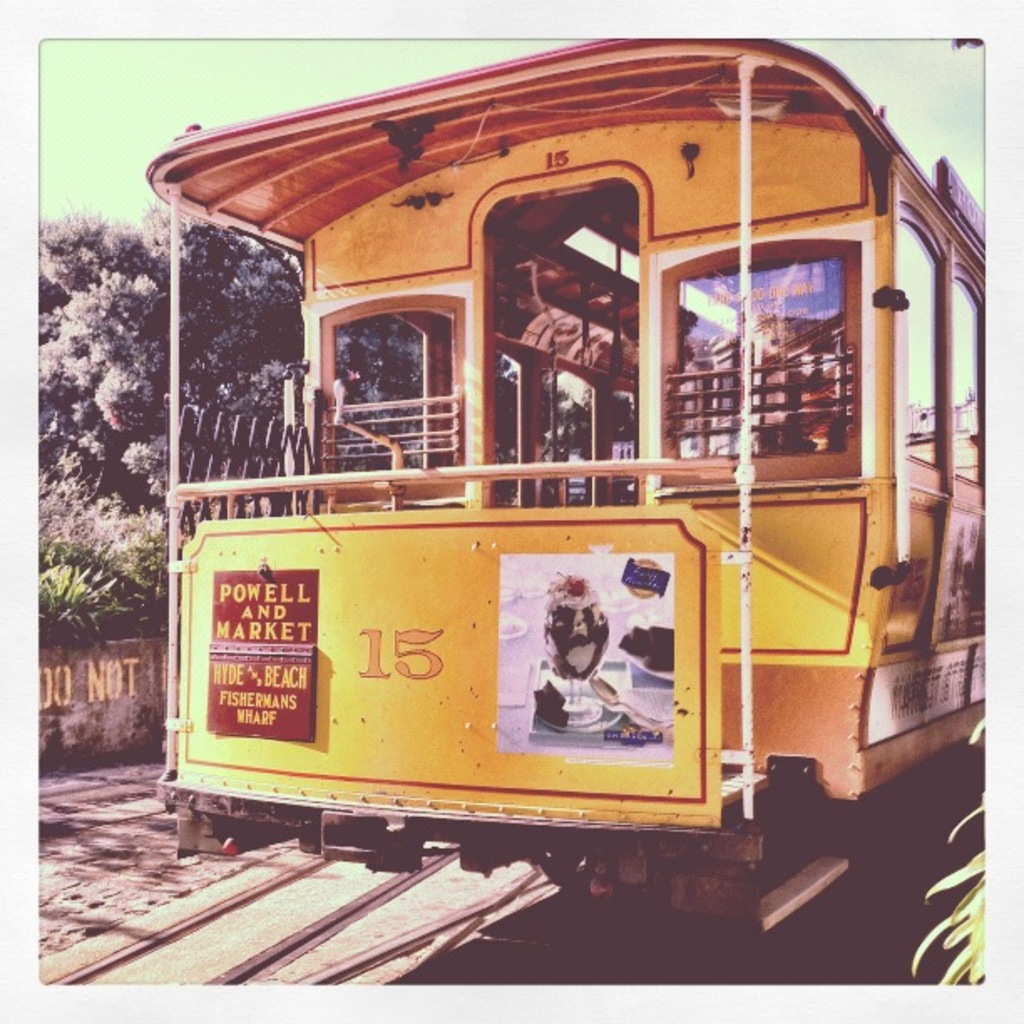Tree: (38, 198, 634, 648)
